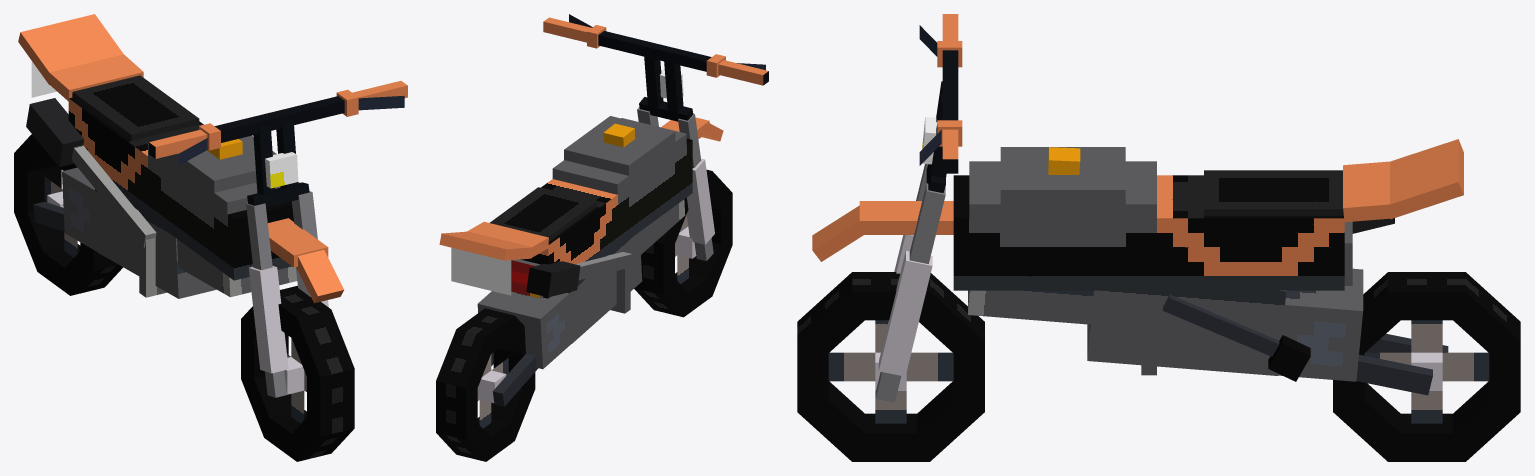
The model's file is motorcycle.glb.
3 views of the same model, side by side, from view 1: azimuth 30°, elevation 25°; view 2: azimuth 150°, elevation 25°; view 3: azimuth 270°, elevation 25° (orthographic). The views are drawn at different scales.
Parts seen in each view (by area): view 1: cube_32, cube_35, cube_30, cube_40, cube_44, octagon_2, cube_23, octagon_1, cube_38, cube_54, cube_31, cube_53 (+31 smaller); view 2: cube_32, cube_31, cube_38, cube_44, cube_35, cube_30, cube_36, octagon_10, octagon_12, cube_33, cube_23, cube_40 (+30 smaller); view 3: cube_32, cube_30, cube_35, cube_38, cube_31, cube_36, cube_40, cube_20, cube_17, octagon_15, cube_37, cube_24 (+25 smaller).
Part boxes in pixels (x1,y1,x2,y2): cube_32: [68, 97, 293, 280]; cube_35: [72, 75, 199, 140]; cube_30: [95, 189, 216, 298]; cube_40: [18, 14, 123, 84]; cube_44: [149, 81, 407, 158]; octagon_2: [288, 309, 354, 386]; cube_23: [248, 266, 288, 373]; octagon_1: [307, 369, 354, 436]; cube_38: [165, 135, 276, 192]; cube_54: [26, 98, 84, 166]; cube_31: [62, 167, 97, 251]; cube_53: [71, 145, 156, 247]; cube_32: [520, 138, 692, 298]; cube_31: [477, 291, 571, 369]; cube_38: [564, 116, 675, 175]; cube_44: [543, 17, 768, 85]; cube_35: [490, 187, 597, 241]; cube_30: [567, 232, 642, 343]; cube_36: [552, 118, 686, 194]; octagon_10: [436, 329, 494, 396]; octagon_12: [436, 380, 477, 439]; cube_33: [451, 247, 511, 295]; cube_23: [686, 158, 714, 244]; cube_40: [439, 231, 531, 260]; cube_32: [953, 175, 1344, 290]; cube_30: [1087, 290, 1286, 375]; cube_35: [1204, 170, 1343, 216]; cube_38: [1000, 147, 1125, 204]; cube_31: [1278, 268, 1363, 381]; cube_36: [969, 161, 1156, 218]; cube_40: [1385, 139, 1463, 219]; cube_20: [828, 320, 953, 423]; cube_17: [1364, 320, 1489, 423]; octagon_15: [1388, 272, 1465, 320]; cube_37: [968, 290, 1093, 324]; cube_24: [878, 251, 932, 376].
Bounding box in the file's own units: 1.38 × 1.64 × 2.89.
Materials: 1 (1 with a texture image).
